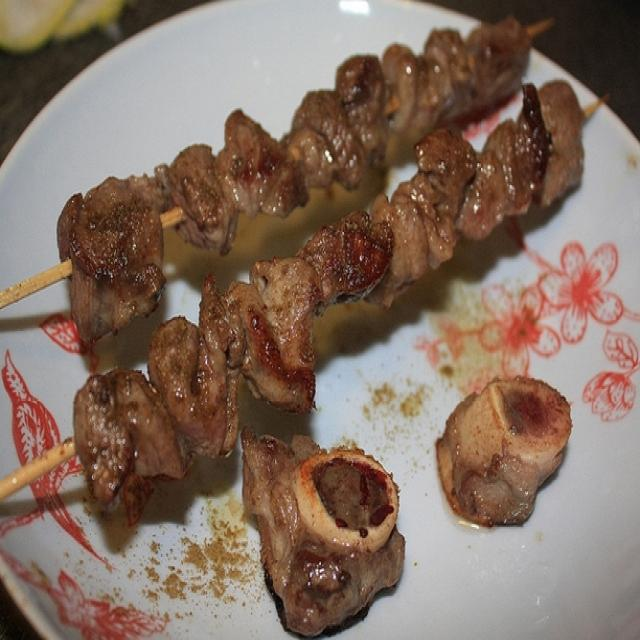烧串烤肉: (11, 16, 617, 626)
